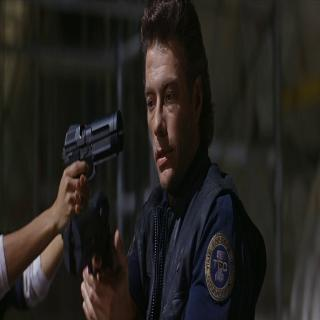gun: (47, 106, 135, 263)
